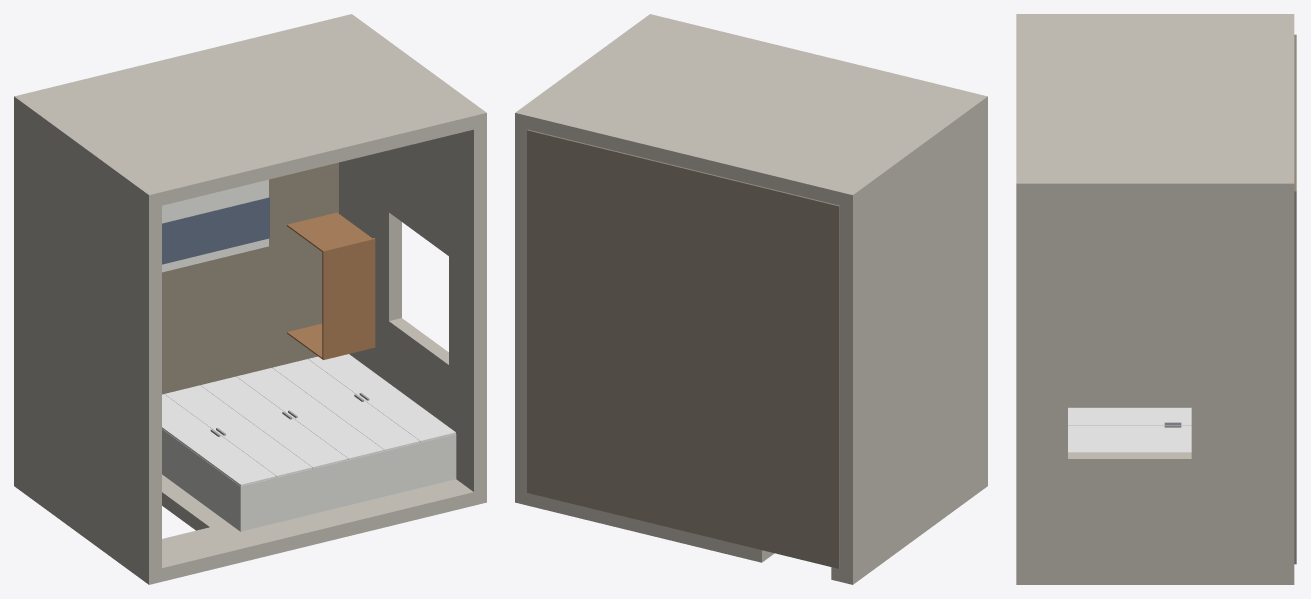
Rendered from Quarto_Casal_Real.obj.
3 renders of one model, left to right at view 1: azimuth 30°, elevation 25°; view 2: azimuth 150°, elevation 25°; view 3: azimuth 270°, elevation 25°, orthographic. The views are drawn at different scales.
Visible parts, largest first — view 1: AMBIENTE, M05_wardrobe, M07_desk, M02_bed; view 2: AMBIENTE; view 3: AMBIENTE, M05_wardrobe.
Boxes of the visible parts, box(x1,y1,x2,y2) form: AMBIENTE: box(14, 14, 486, 584); M05_wardrobe: box(162, 354, 456, 531); M07_desk: box(287, 212, 375, 359); M02_bed: box(162, 179, 269, 272); AMBIENTE: box(515, 14, 987, 584); AMBIENTE: box(1016, 14, 1296, 584); M05_wardrobe: box(1068, 408, 1191, 452).
Size of the model in its own units: 3900 by 4300 by 2720.
